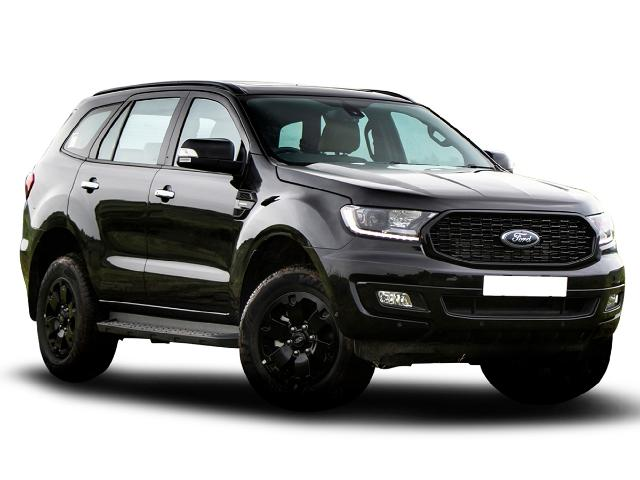ford: (19, 78, 626, 415)
